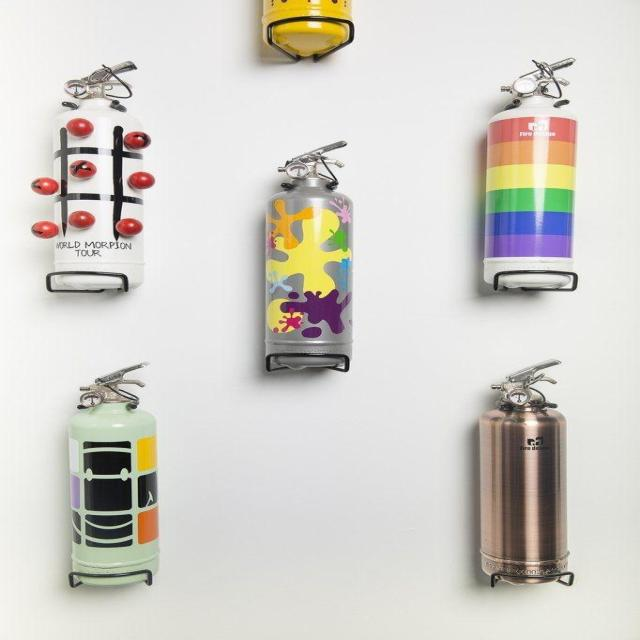fire_extinguisher: (44, 56, 157, 294), (478, 53, 584, 294), (467, 358, 577, 586), (257, 140, 360, 377), (65, 357, 169, 590), (253, 0, 356, 63)
